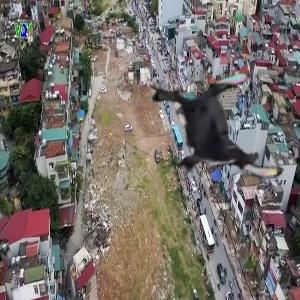drone: (146, 61, 286, 201)
